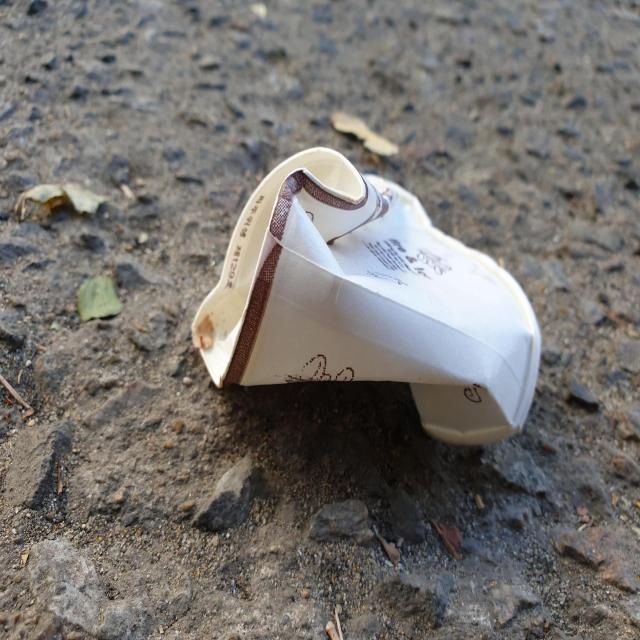paperpack: (192, 147, 542, 445)
